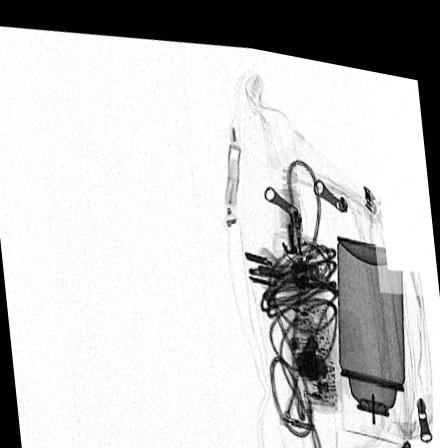Sprayer: (337, 223, 404, 430)
